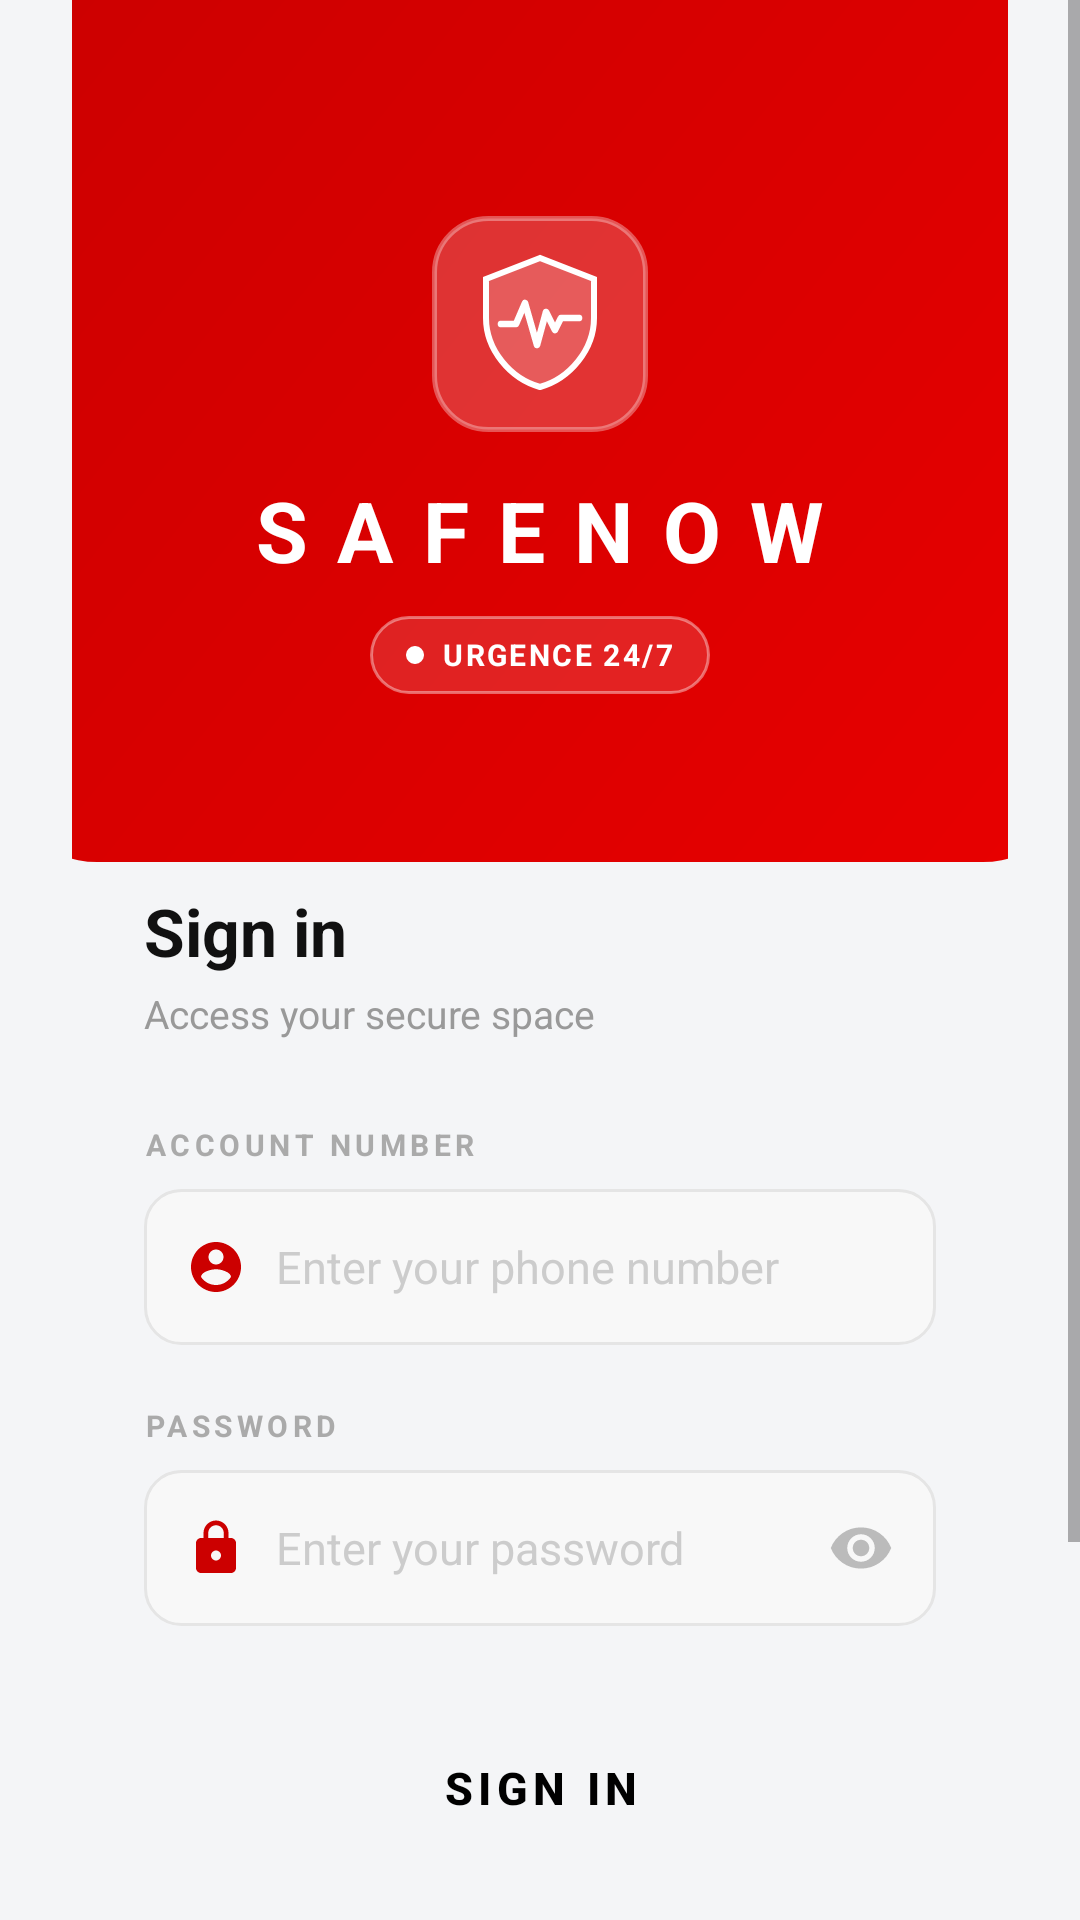

Icon bounding boxes for this 1080x1920 phone screenshot, format (x1, y1, x2, y2):
account circle: (191, 1242, 241, 1292)
lock: (196, 1520, 236, 1573)
shield heartbeat: (483, 255, 597, 390)
visibility: (831, 1527, 891, 1569)
